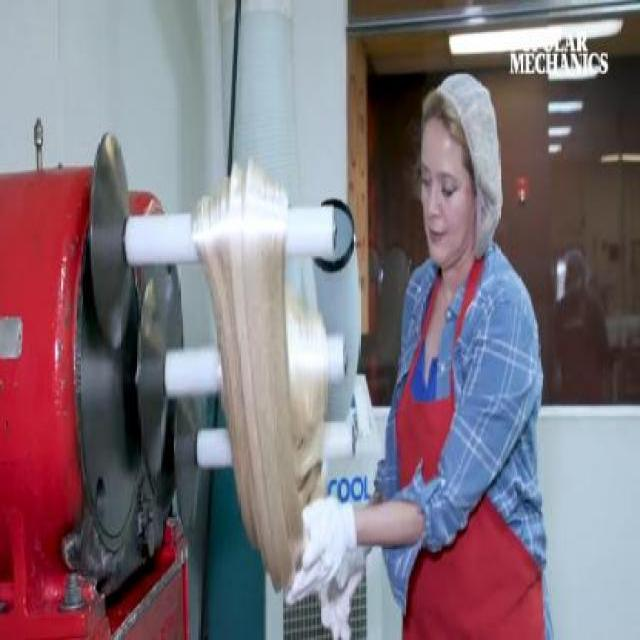hairnet: (428, 81, 503, 162)
